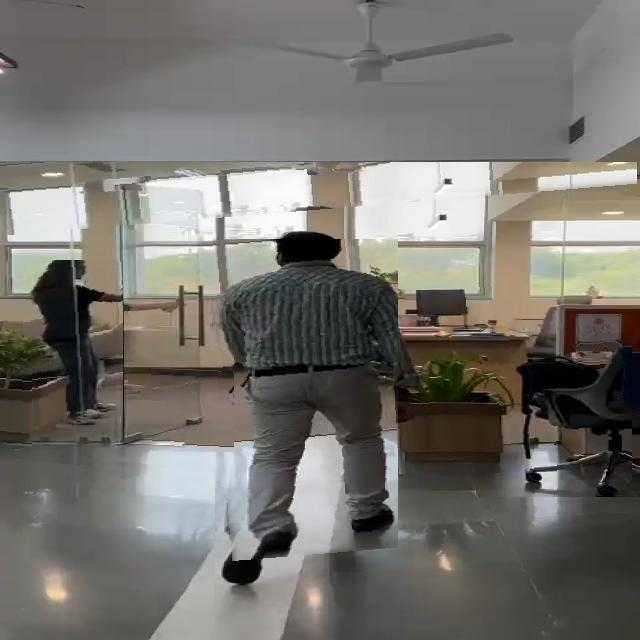floor: (0, 453, 215, 640), (414, 497, 640, 640), (139, 367, 234, 452)
furniture: (498, 333, 632, 500), (393, 361, 509, 474), (417, 282, 492, 361), (0, 304, 33, 446)
moving_object: (206, 239, 398, 561), (27, 260, 123, 426)
wall: (0, 162, 637, 235)
